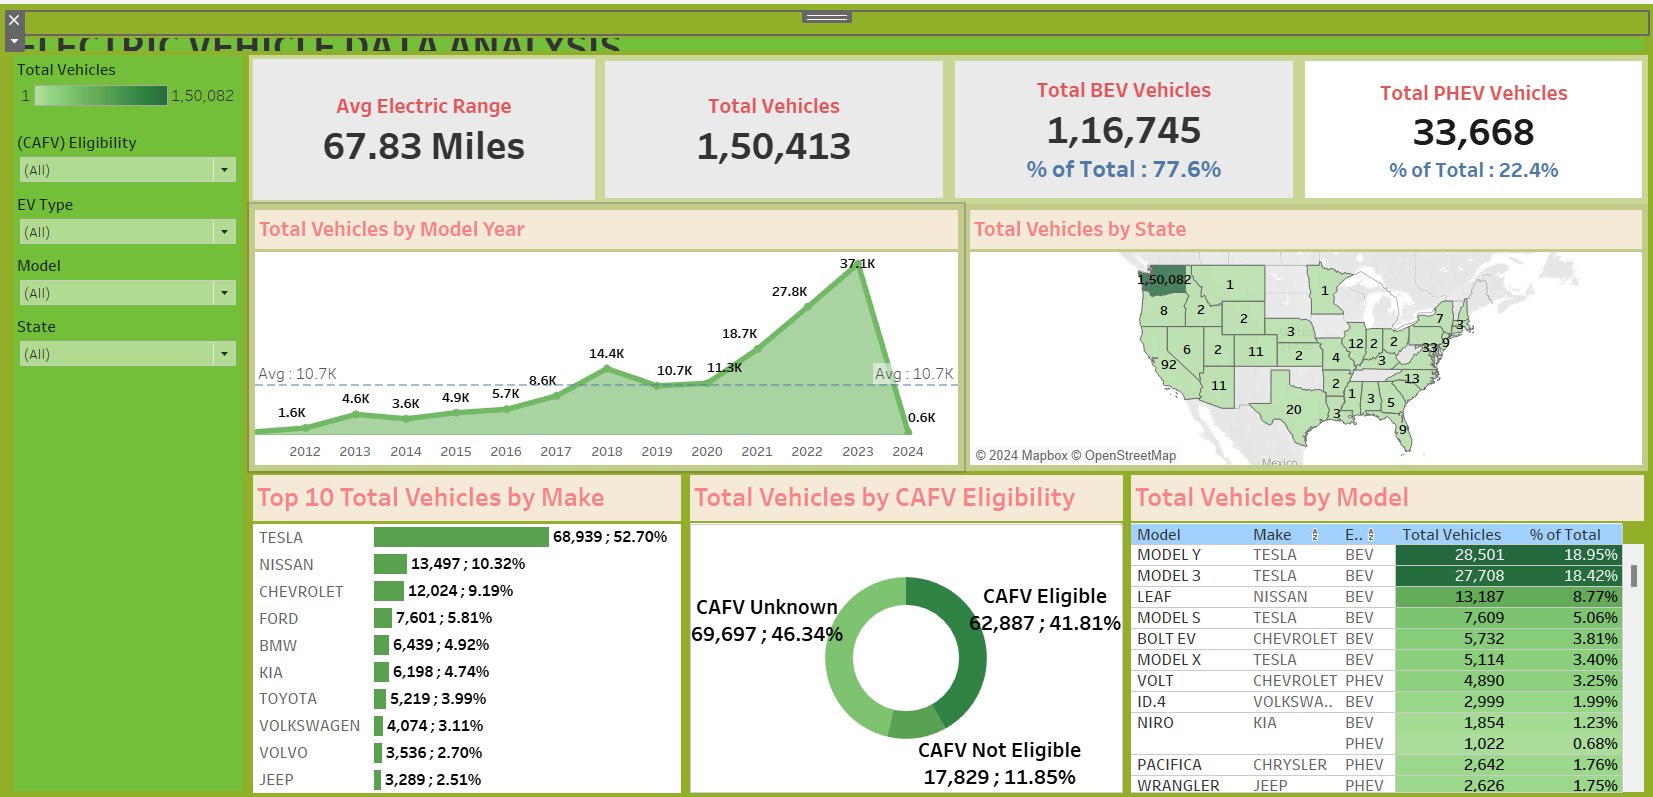

What the dashboard file says about the page in this screenshot:
{"tool":"tableau","page":{"name":"Dashboard 1","canvas":[1000,1000],"units":"permille","ordinal":0},"visuals":[{"type":"image","param":"Image/istockphoto-[number redacted]-612x612.jpg","box":[867.8,8.7,126.7,52.4]},{"type":"title","box":[4.8,10,990.3,54.3]},{"type":"worksheet","title":"Avg electric range","mark":"Automatic","box":[150.9,63.7,211.2,186]},{"type":"worksheet","title":"Total vehicles","mark":"Automatic","box":[362.1,63.7,211.2,186]},{"type":"worksheet","title":"Total BEV Vehicles","mark":"Automatic","box":[573.3,63.7,211.2,186]},{"type":"worksheet","title":"Total PHEV Vehicles","mark":"Automatic","box":[784.6,63.7,210.6,186]},{"type":"legend","title":"Total Vehicles by State","param":"[federated.0ma9mqu0pi1ajf1ffv4hg1ufl8p2].[usr:Calculation_2666342116225564672:qk","box":[8.4,64.3,139,91.1]},{"type":"filter","title":"Total Vehicles by Model Year","param":"[federated.0ma9mqu0pi1ajf1ffv4hg1ufl8p2].[none:Clean Alternative Fuel Vehicle (C","box":[8.4,155.4,139,76.2]},{"type":"filter","title":"Total Vehicles by Model Year","param":"[federated.0ma9mqu0pi1ajf1ffv4hg1ufl8p2].[none:Electric Vehicle Type:nk]","box":[8.4,231.6,139,76.2]},{"type":"worksheet","title":"Total Vehicles by Model Year","mark":"Area","rows":["Calculation_2666342116225564672","Calculation_2666342116225564672"],"cols":["Model Year"],"box":[151.1,249.7,431.4,333.4]},{"type":"worksheet","title":"Total Vehicles by State","mark":"Multipolygon","box":[582.5,249.7,412.7,333.4]},{"type":"filter","title":"Total Vehicles by Model Year","param":"[federated.0ma9mqu0pi1ajf1ffv4hg1ufl8p2].[none:Model:nk]","box":[8.4,307.8,139,76.2]},{"type":"filter","title":"Total Vehicles by Model Year","param":"[federated.0ma9mqu0pi1ajf1ffv4hg1ufl8p2].[none:State:nk]","box":[8.4,383.9,139,76.2]},{"type":"blank","box":[8.4,460.1,139,38.7]},{"type":"image","param":"Image/00-Student-Blogs.png","box":[8.4,498.8,139,221.9]},{"type":"worksheet","title":"Top 10 Total Vehicles by Make","mark":"Automatic","rows":["Make"],"cols":["Calculation_2666342116225564672"],"box":[151.1,583.1,263.2,406.9]},{"type":"worksheet","title":"Total Vehicles by CAFV Eligibility","mark":"Pie","rows":["Calculation_2666342116270510087","Calculation_2666342116270510087"],"box":[414.3,583.1,266.3,406.9]},{"type":"worksheet","title":"Total Vehicles by Model","mark":"Square","rows":["Model","Make","Electric Vehicle Type"],"box":[680.7,583.1,314.5,406.9]},{"type":"image","param":"Image/Download Electric car charging station long shadow symbol_ for free.jpg","box":[8.4,720.7,139,221.9]},{"type":"blank","box":[8.4,942.6,139,40]}]}

Visuals, with their boxes on the dashboard's canvas, which has no fixed pixel size, in thousandths of its width and height (x1, y1, x2, y2). These are canvas units, not pixel positions in the 1653x797 screenshot, which may show the page scaled, cropped or inside an application window:
image: <box>868,9,994,61</box>
title: <box>5,10,995,64</box>
"Avg electric range" worksheet: <box>151,64,362,250</box>
"Total vehicles" worksheet: <box>362,64,573,250</box>
"Total BEV Vehicles" worksheet: <box>573,64,784,250</box>
"Total PHEV Vehicles" worksheet: <box>785,64,995,250</box>
"Total Vehicles by State" legend: <box>8,64,147,155</box>
"Total Vehicles by Model Year" filter: <box>8,155,147,232</box>
"Total Vehicles by Model Year" filter: <box>8,232,147,308</box>
"Total Vehicles by Model Year" worksheet (Area marks): <box>151,250,582,583</box>
"Total Vehicles by State" worksheet (Multipolygon marks): <box>582,250,995,583</box>
"Total Vehicles by Model Year" filter: <box>8,308,147,384</box>
"Total Vehicles by Model Year" filter: <box>8,384,147,460</box>
blank: <box>8,460,147,499</box>
image: <box>8,499,147,721</box>
"Top 10 Total Vehicles by Make" worksheet: <box>151,583,414,990</box>
"Total Vehicles by CAFV Eligibility" worksheet (Pie marks): <box>414,583,681,990</box>
"Total Vehicles by Model" worksheet (Square marks): <box>681,583,995,990</box>
image: <box>8,721,147,943</box>
blank: <box>8,943,147,983</box>
